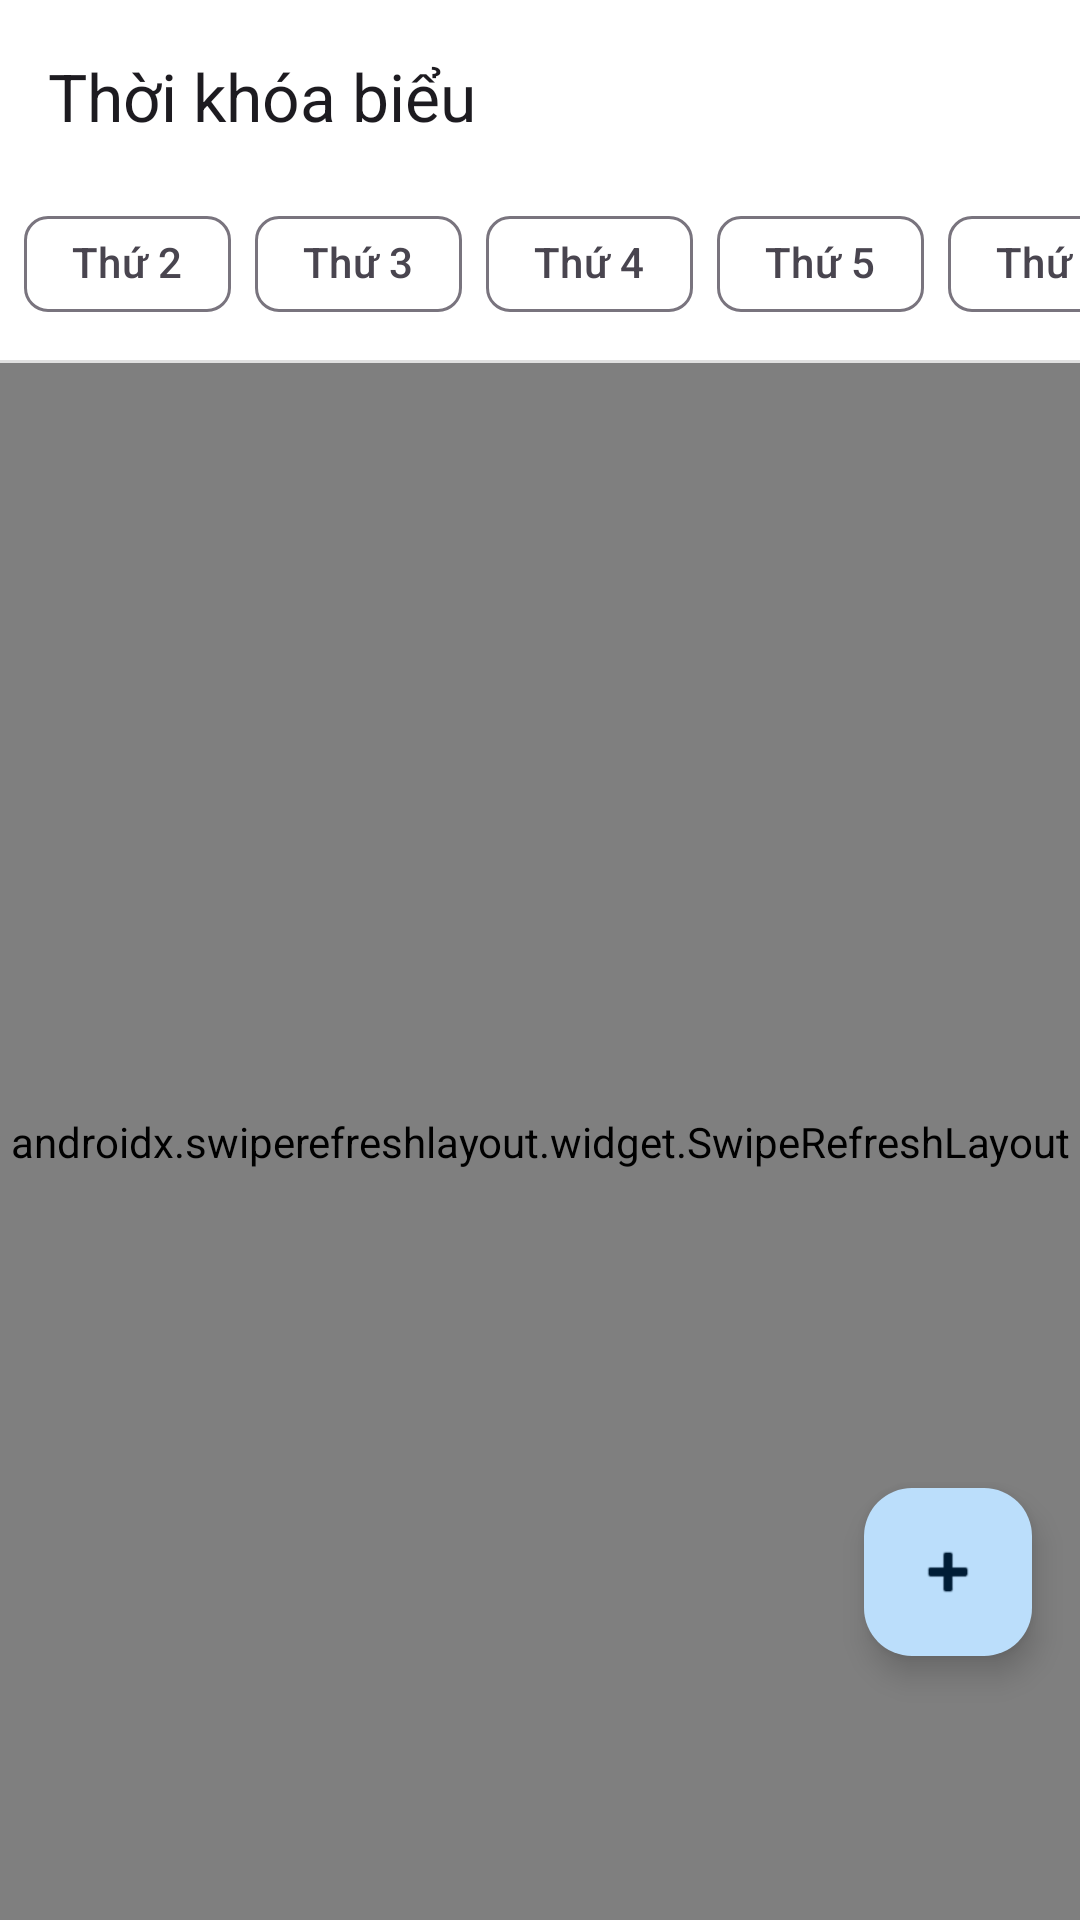

Icons on this 1080*1920 Android screen, each with the point to tap as (x,y):
Thêm mới: (948,1572)
